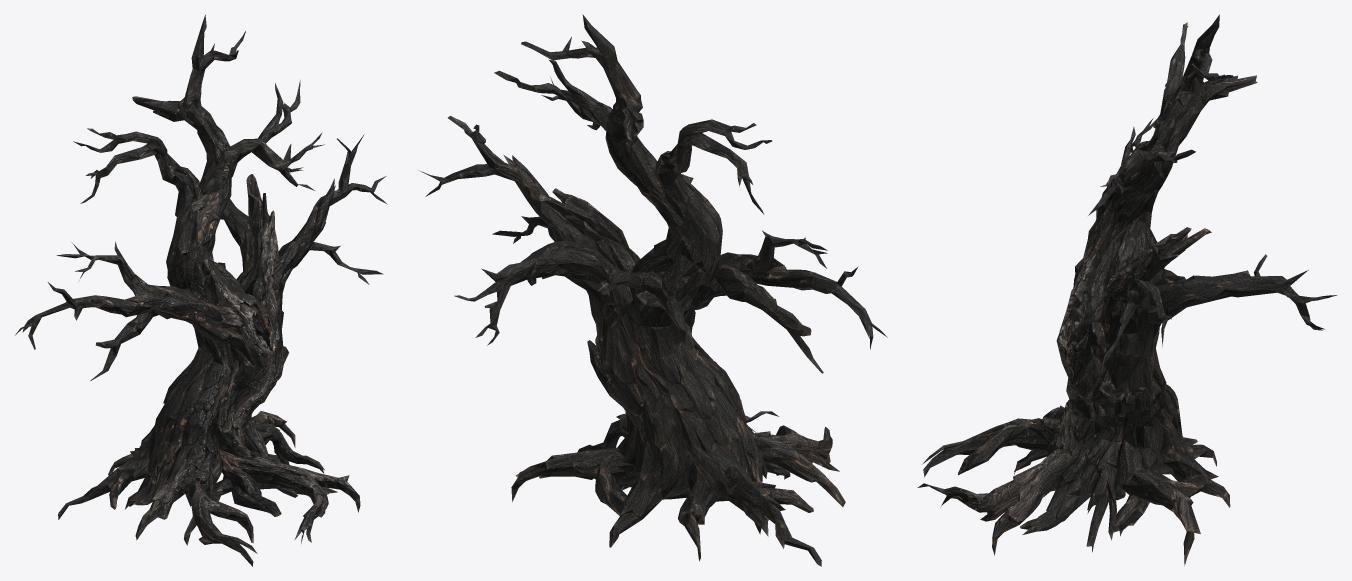
Rendered from dead-tree.glb.
3 renders of one model, left to right at view 1: azimuth 30°, elevation 25°; view 2: azimuth 150°, elevation 25°; view 3: azimuth 270°, elevation 25°, orthographic. The views are drawn at different scales.
Visible parts, largest first — view 1: output_unwrapped; view 2: output_unwrapped; view 3: output_unwrapped.
Boxes of the visible parts, <box> form: output_unwrapped: <box>15,14,387,566</box>; output_unwrapped: <box>418,14,887,566</box>; output_unwrapped: <box>917,14,1337,565</box>.
Size of the model in its own units: 1.72 by 1.89 by 1.4.
Materials: 1 (1 with a texture image).
